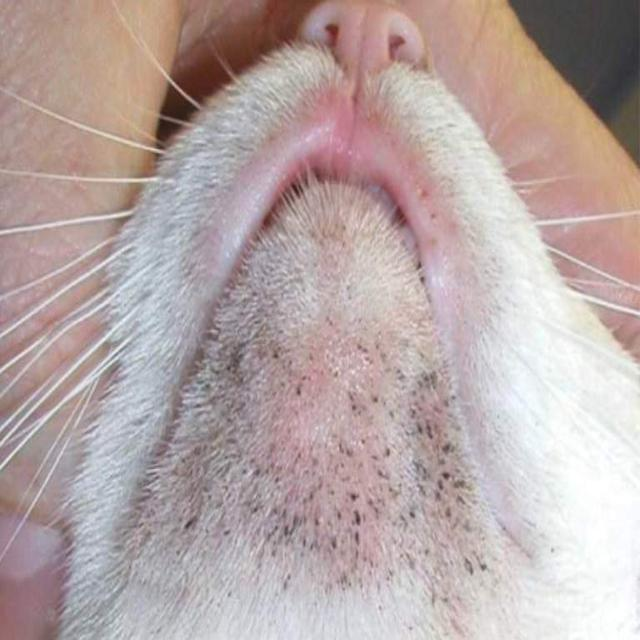acne: (183, 302, 493, 591)
